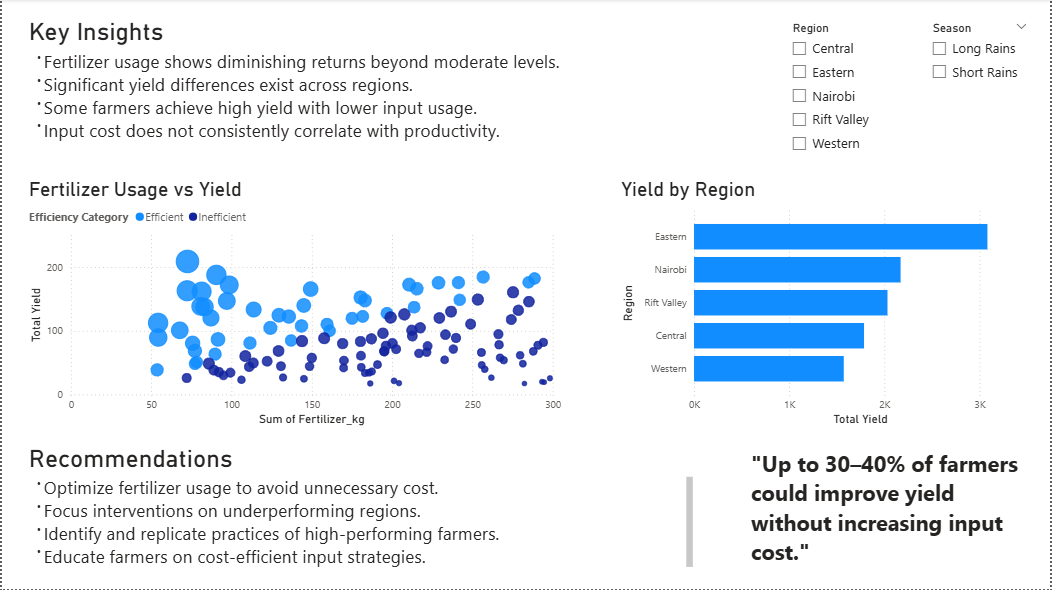

What the dashboard file says about the page in this screenshot:
{"tool":"powerbi","page":{"name":"Insights & Recommendations","canvas":[1280,720],"ordinal":3},"visuals":[{"type":"textbox","title":"Key Insights","box":[28.1,22,774.9,173.3],"z":0},{"type":"textbox","title":"Recommendations","box":[28.1,543.1,820.1,155],"z":1},{"type":"scatterChart","title":"Fertilizer Usage vs Yield","fields":{"X":["Sum(Inputs.Fertilizer_kg)"],"Y":["Production.Total Yield"],"Category":["Farmers.FarmerID"],"Size":["Inputs.Input Efficiency"],"Series":["Inputs.Efficiency Category"]},"box":[28.1,218.4,659,307.5],"z":2},{"type":"clusteredBarChart","title":"Yield by Region","fields":{"Category":["Farmers.Region"],"Y":["Production.Total Yield"]},"box":[750.5,218.4,512.5,307.5],"z":3},{"type":"textbox","box":[909.2,543.1,353.9,155],"z":4},{"type":"slicer","fields":{"Values":["Farmers.Region"]},"box":[951.9,22,144,173.3],"z":5},{"type":"slicer","fields":{"Values":["Production.Season"]},"box":[1122.7,22,140.3,173.3],"z":6}]}

Visuals, with their boxes in screenshot pixels (x1, y1, x2, y2), scaled from the page's 1280x720 canvas onto the 1052x590 screenshot:
"Key Insights" textbox: [23, 18, 660, 160]
"Recommendations" textbox: [23, 445, 697, 572]
"Fertilizer Usage vs Yield" scatterChart: [23, 179, 565, 431]
"Yield by Region" clusteredBarChart: [617, 179, 1038, 431]
textbox: [747, 445, 1038, 572]
slicer - Farmers.Region: [782, 18, 901, 160]
slicer - Production.Season: [923, 18, 1038, 160]
